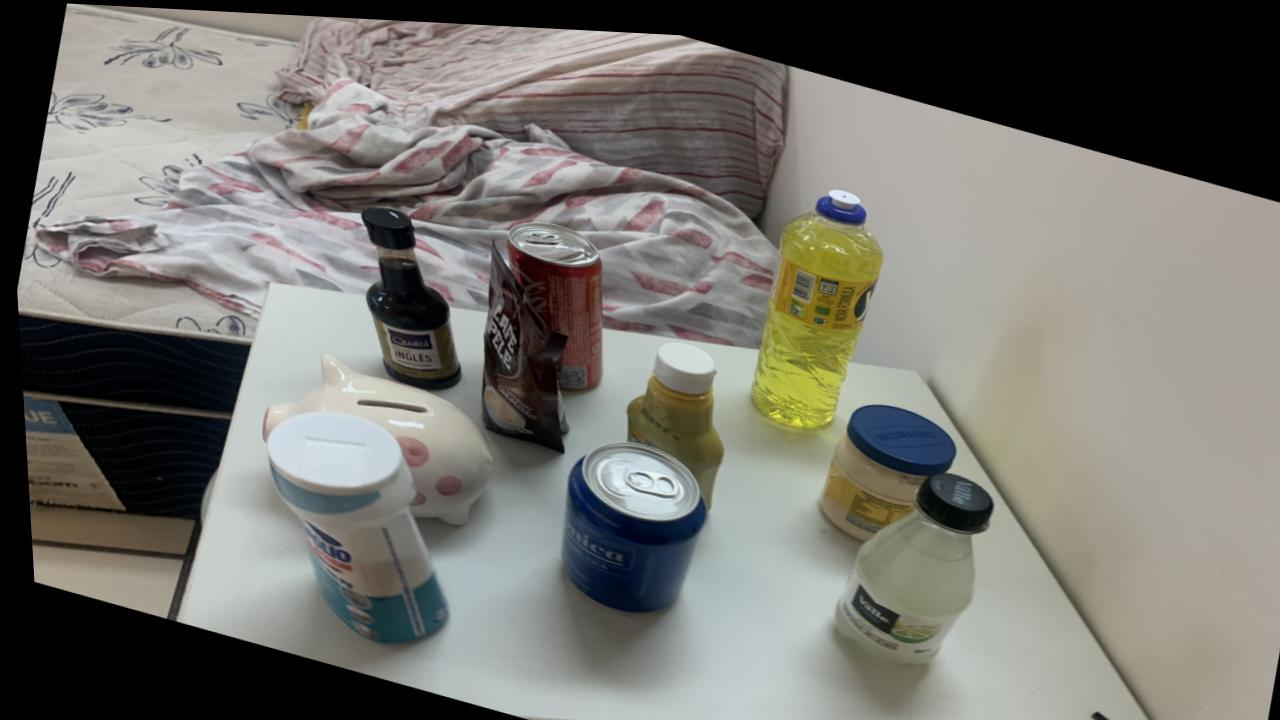Cleaner-Cleanup_Items: (261, 407, 441, 639)
Coffee-Pantry_Items: (476, 241, 565, 447)
Coke-Drinks: (503, 216, 599, 383)
Detergent-Cleanup_Items: (746, 180, 880, 420)
English_Sauce-Pantry_Items: (358, 203, 456, 385)
Mayonnaise-Pantry_Items: (813, 394, 950, 532)
Mustard-Pantry_Items: (621, 334, 719, 501)
Pig_Safe-Miscellaneous: (256, 350, 488, 520)
Soda-Drinks: (827, 462, 988, 654)
Tonic-Drinks: (554, 435, 701, 606)
